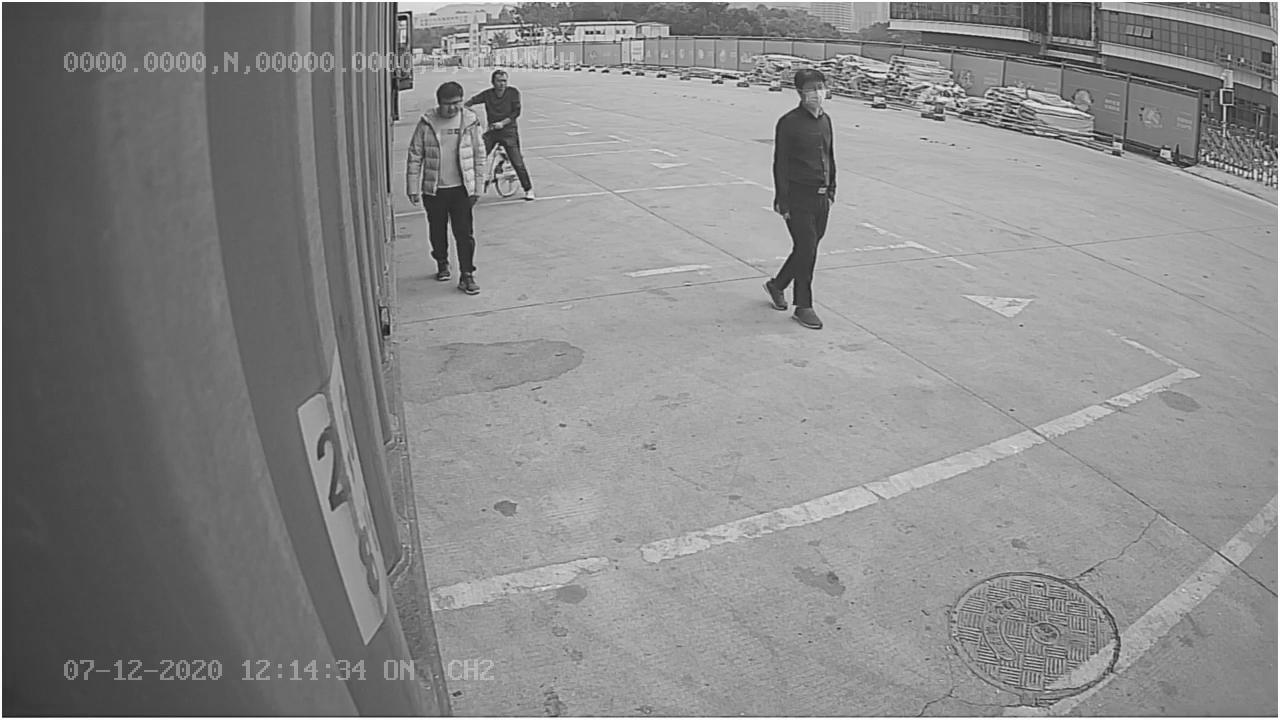person: (763, 62, 842, 334)
